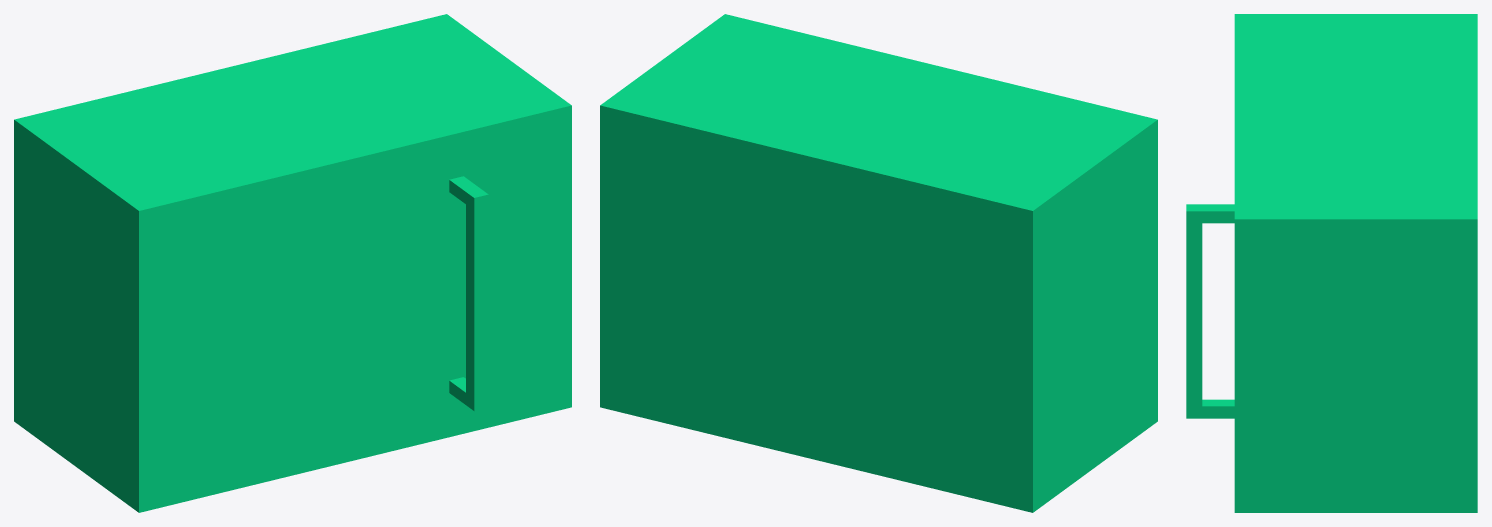
The model's file is Microwave.fbx.
3 views of the same model, side by side, from view 1: azimuth 30°, elevation 25°; view 2: azimuth 150°, elevation 25°; view 3: azimuth 270°, elevation 25° (orthographic). The views are drawn at different scales.
Parts seen in each view (by area): view 1: Microwave; view 2: Microwave; view 3: Microwave.
Boxes of the visible parts, bbox=[...] form: Microwave: bbox=[14, 14, 571, 512]; Microwave: bbox=[600, 14, 1157, 512]; Microwave: bbox=[1186, 14, 1477, 512].
Bounding box in the file's own units: 60 × 40 × 36.
